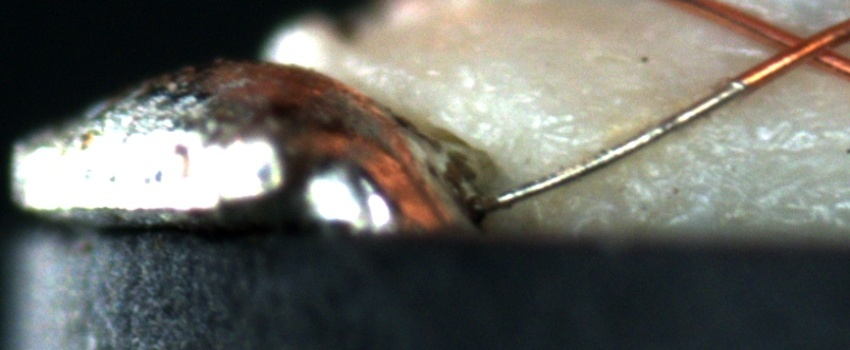CL: (750, 17, 845, 77)
DL: (677, 120, 849, 184)
TS: (477, 78, 745, 212)
TTCW: (489, 45, 802, 209)
